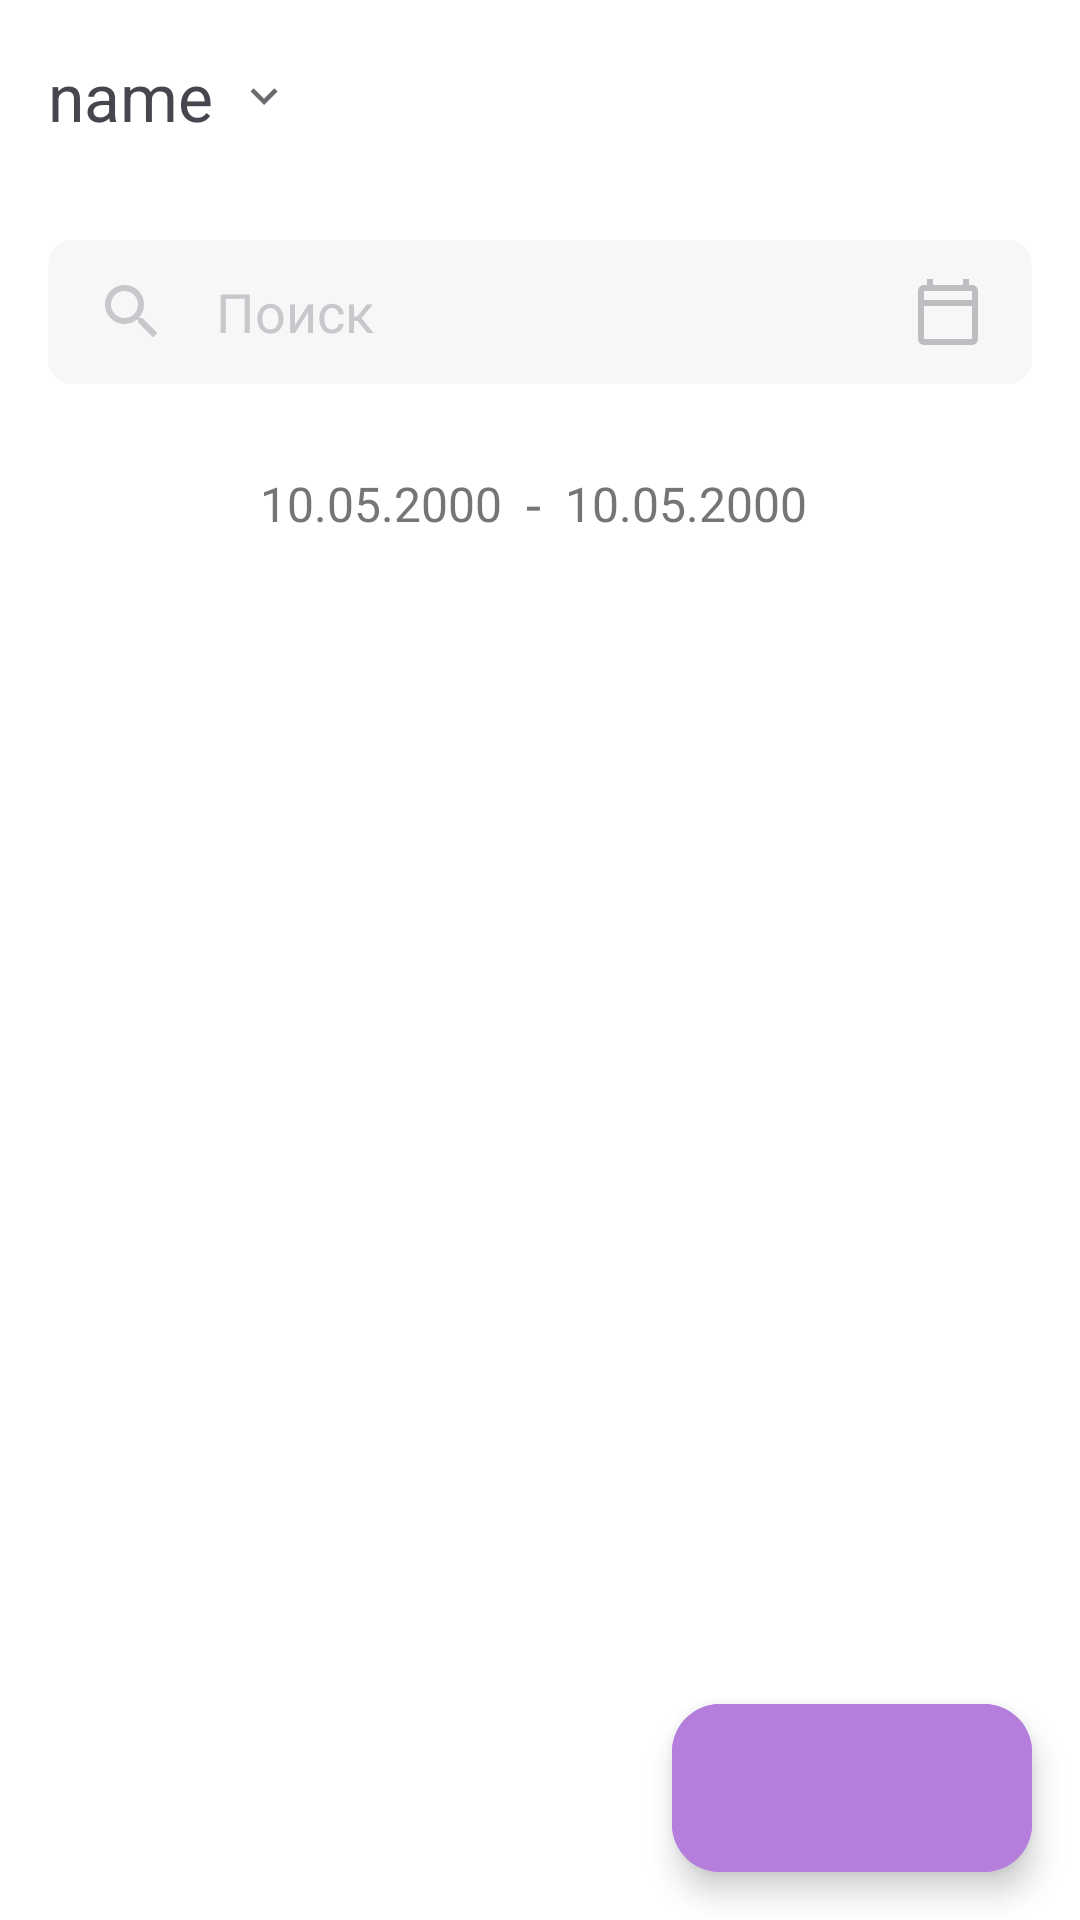

Icons on this 1080 x 1920 Android screen, each with the point to tap as (x,y):
calendar today: (948,312)
keyboard arrow down: (264,96)
search: (131,311)
